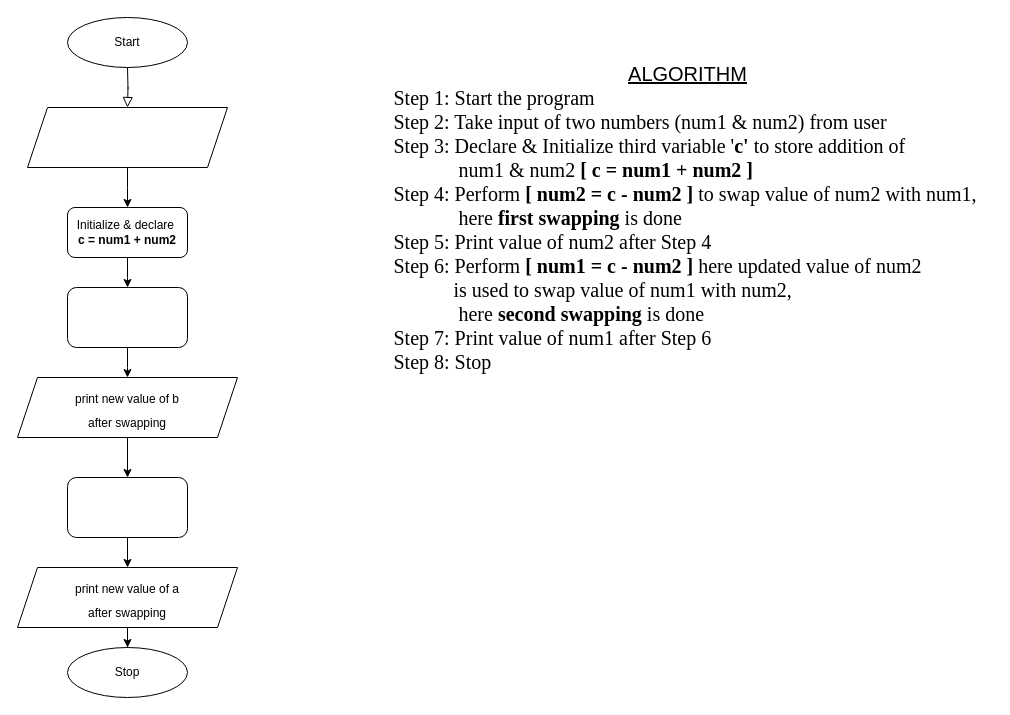
Image size: 1010x715. Some labels were removed from this diagram. The shapes that lost their labels are listed below. From the top down, each one's box as (x1, y1, x2, y2) in pixels, then its label:
(26, 106, 228, 168): Enter the first & second number
(66, 286, 188, 348): perform num2 = c - num2 for swapping
(66, 476, 188, 538): perform num1 = c - num2 ( here value of b is updated )
